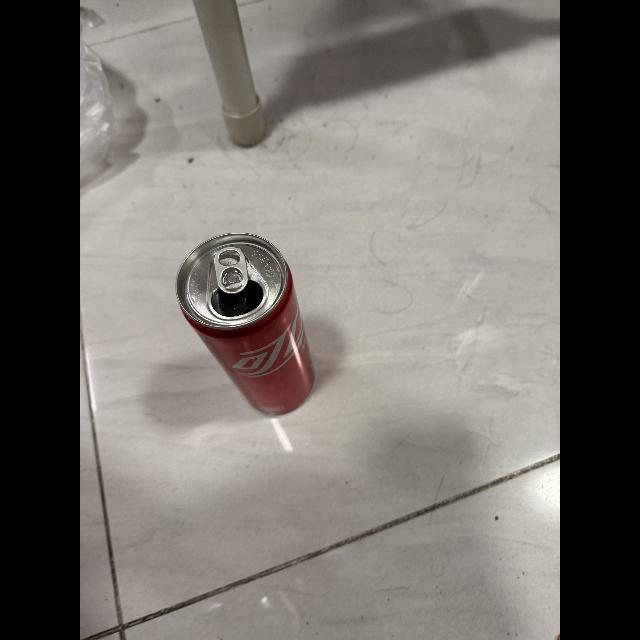Cola: (168, 223, 334, 421)
